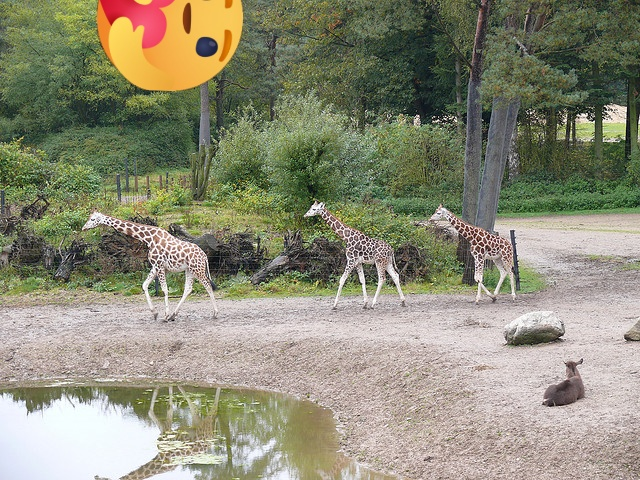care: (97, 0, 243, 91)
